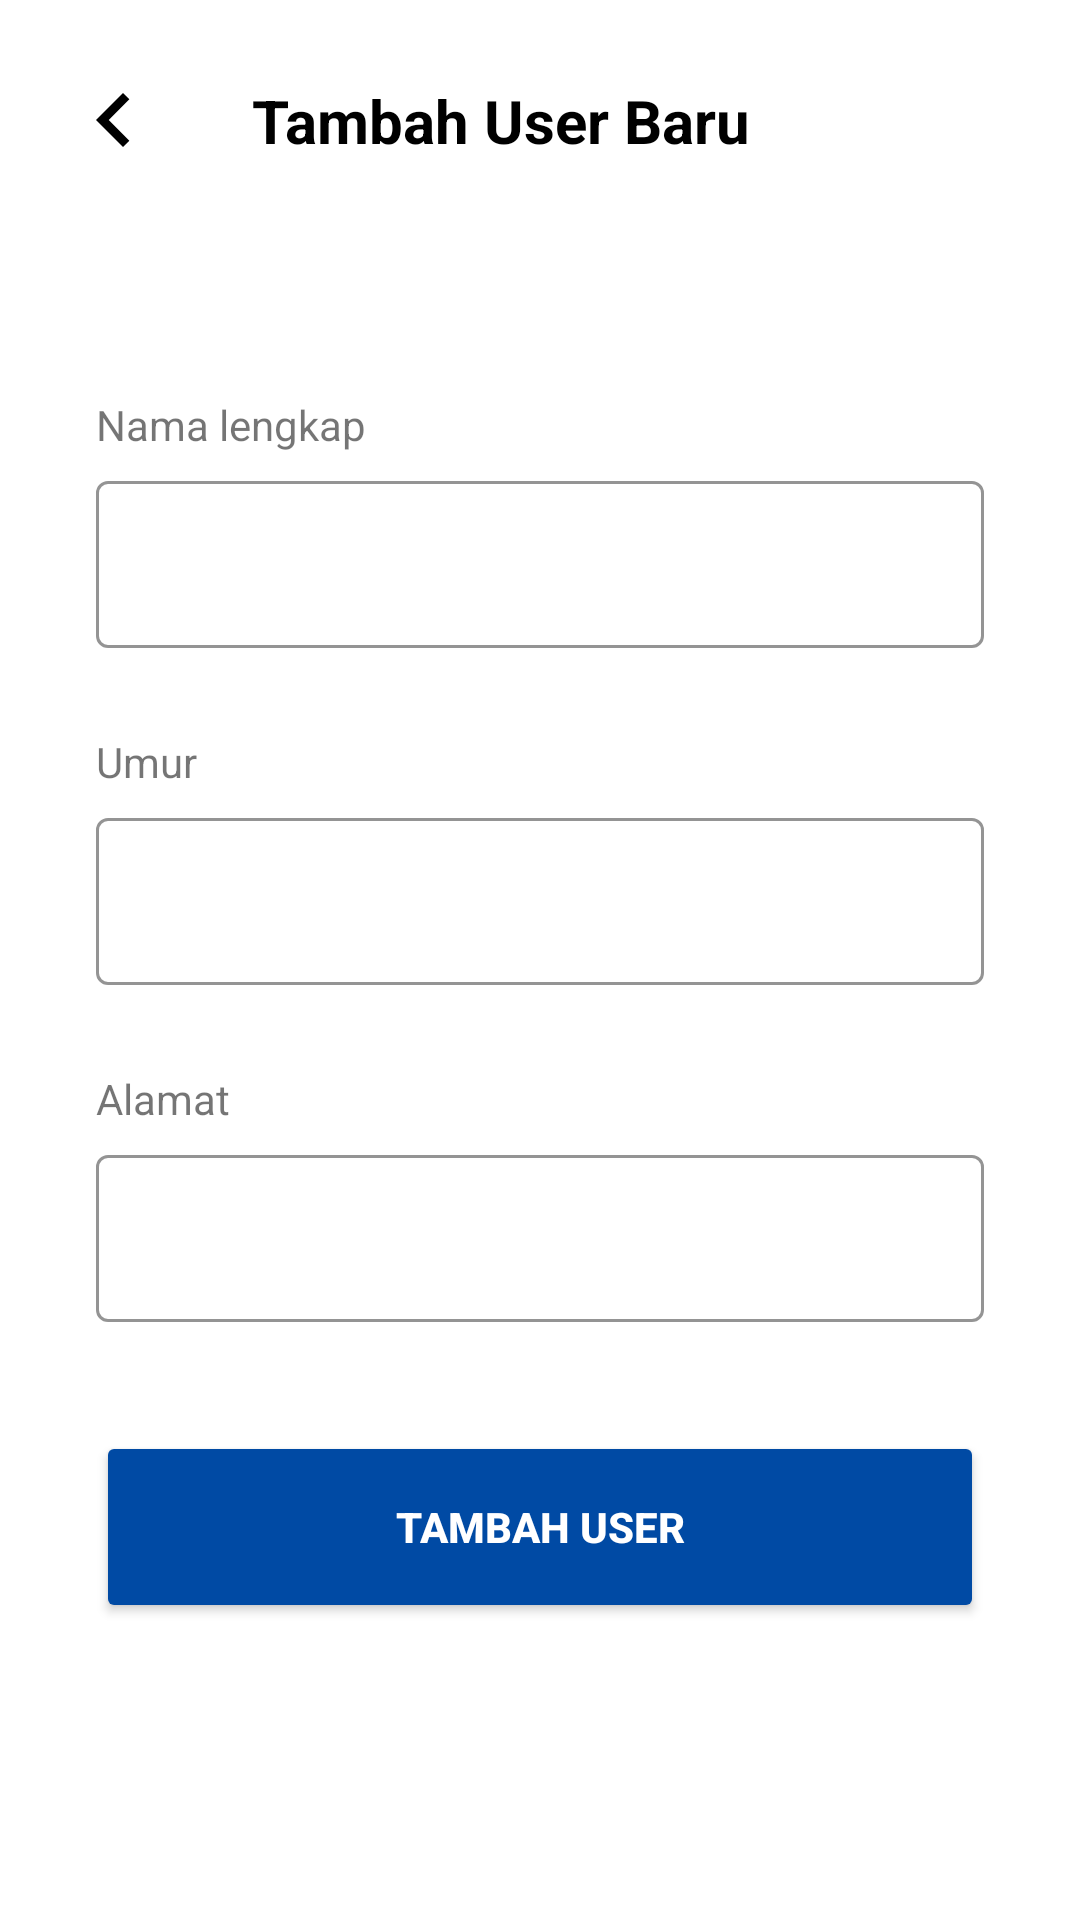

Where icons sit on this 1080px×1920px app screen, as (x1, y1, x2, y2):
chevron left: (96, 93, 130, 147)
